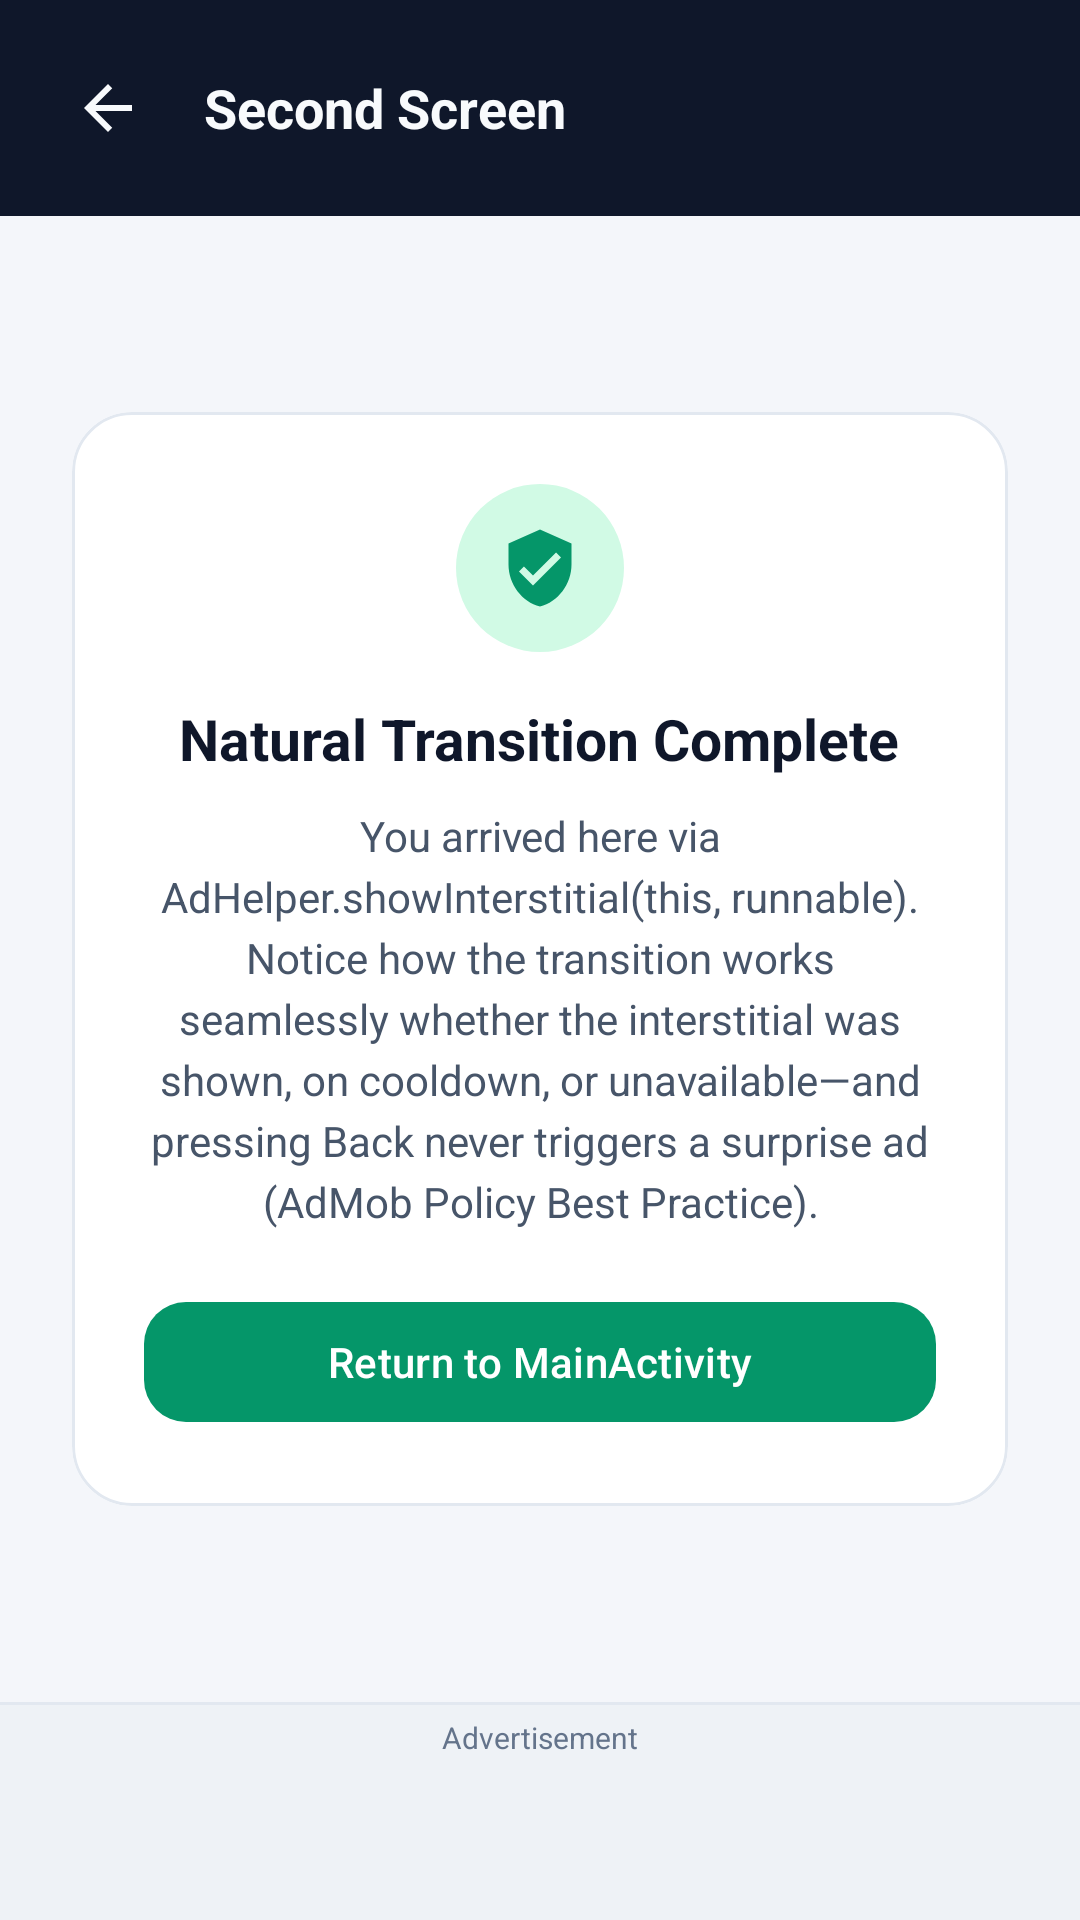

Icon click points for this 1080×1920 phone screenshot, format point (x, y):
Navigate back: point (108, 108)
Policy shield icon: point (540, 568)
